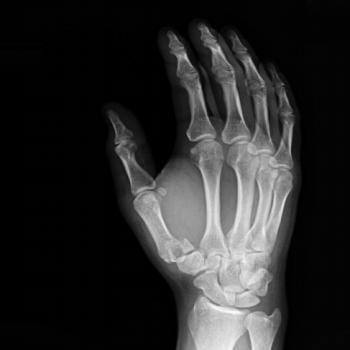Fracture: (168, 238, 197, 260)
